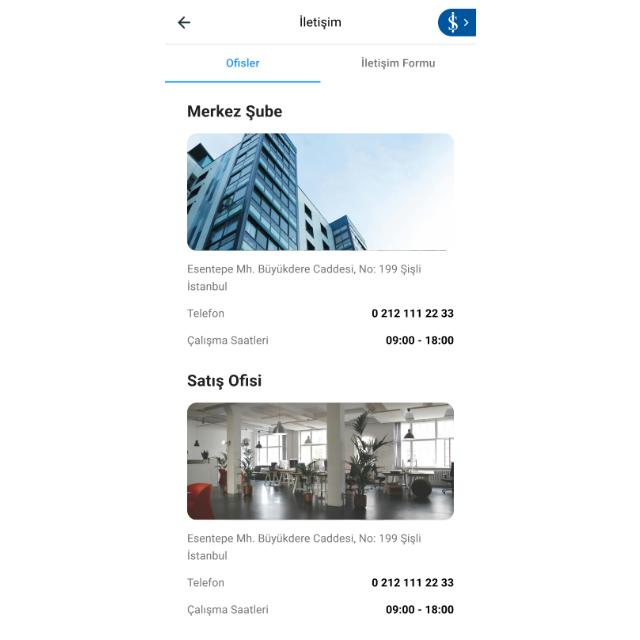QLabel: (185, 532, 422, 546), (184, 263, 420, 275), (184, 103, 282, 121), (184, 372, 262, 390), (353, 54, 437, 70), (369, 576, 453, 590), (186, 604, 270, 618), (185, 334, 268, 346), (370, 307, 452, 319), (295, 14, 343, 31), (384, 335, 454, 345), (384, 605, 454, 615), (184, 548, 230, 562), (219, 55, 261, 69), (186, 576, 224, 590), (185, 280, 228, 292), (185, 308, 225, 320)
VAppBar: (164, 0, 474, 46)
VIcon: (174, 14, 192, 32)
VImg: (185, 402, 453, 522), (185, 134, 452, 252), (436, 9, 474, 37)
VTabs: (164, 46, 476, 640)
